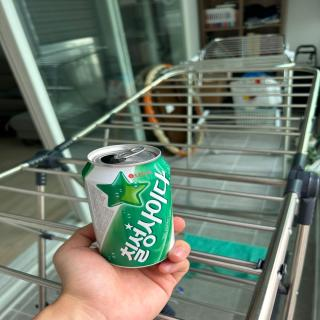chilsung: (80, 142, 176, 269)
